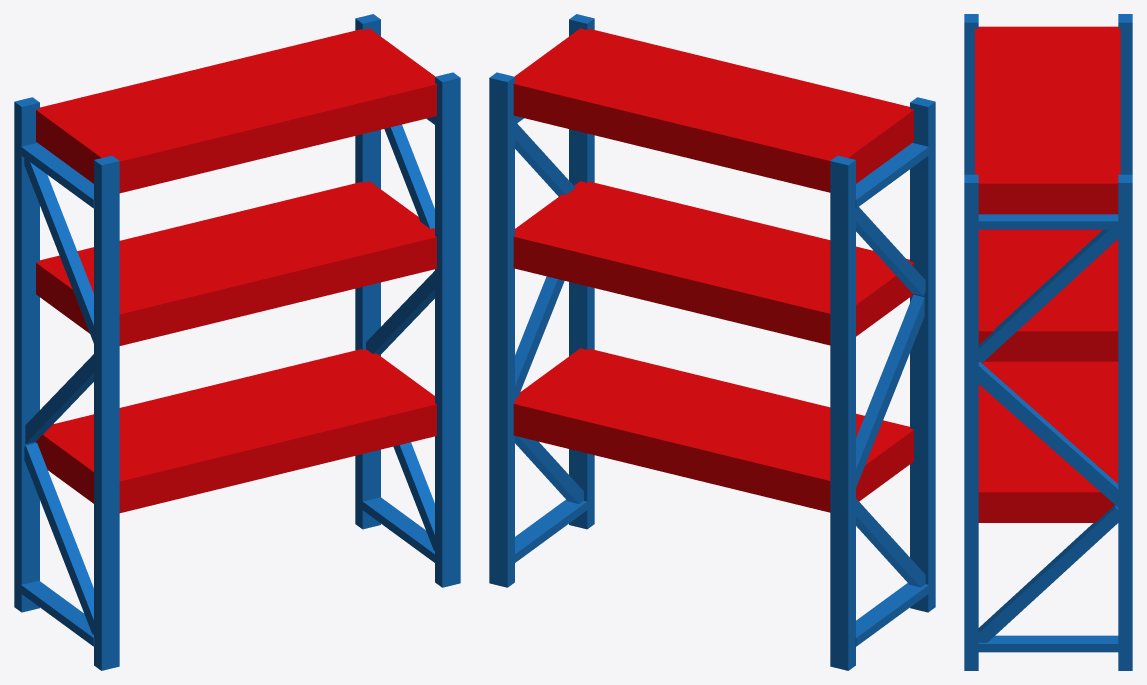
The model's file is Shelf_2.fbx.
3 renders of one model, left to right at view 1: azimuth 30°, elevation 25°; view 2: azimuth 150°, elevation 25°; view 3: azimuth 270°, elevation 25°, orthographic. The views are drawn at different scales.
Parts seen in each view (by area): view 1: Cube.007; view 2: Cube.007; view 3: Cube.007.
Part boxes in pixels (<box>): Cube.007: <box>14,14,460,670</box>; Cube.007: <box>489,14,935,670</box>; Cube.007: <box>964,14,1132,670</box>.
Bounding box in the file's own units: 1946 × 2614 × 817.
